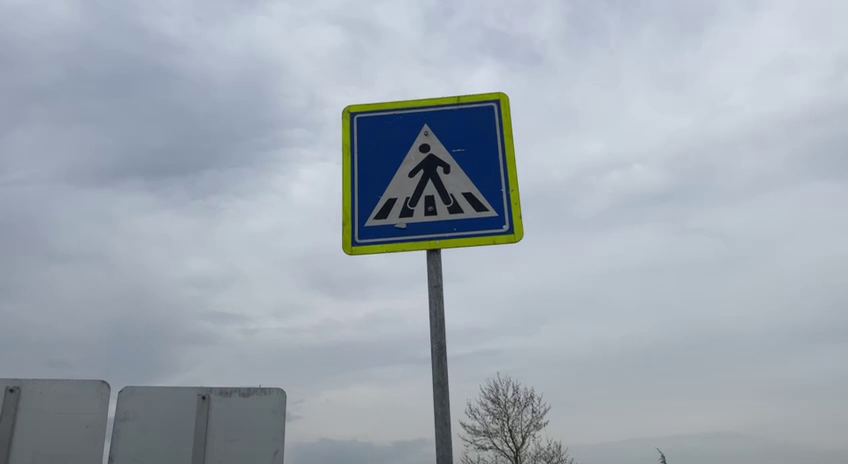pedestrianCrossing: (338, 89, 526, 258)
